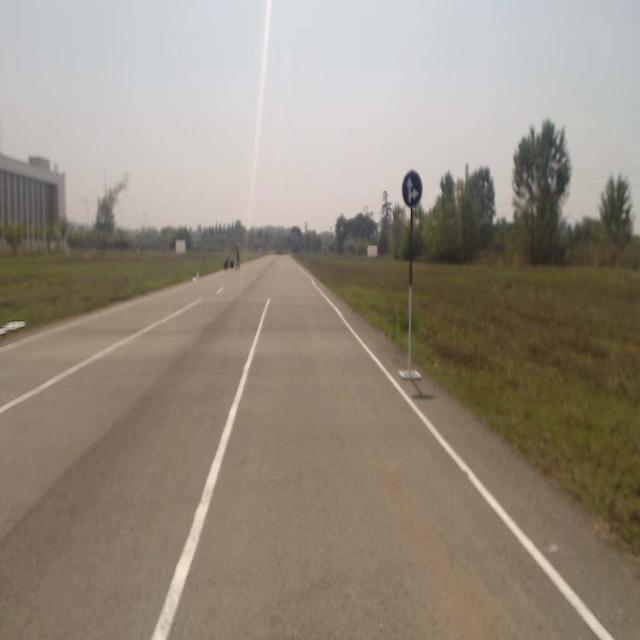ilerisag: (402, 171, 422, 208)
